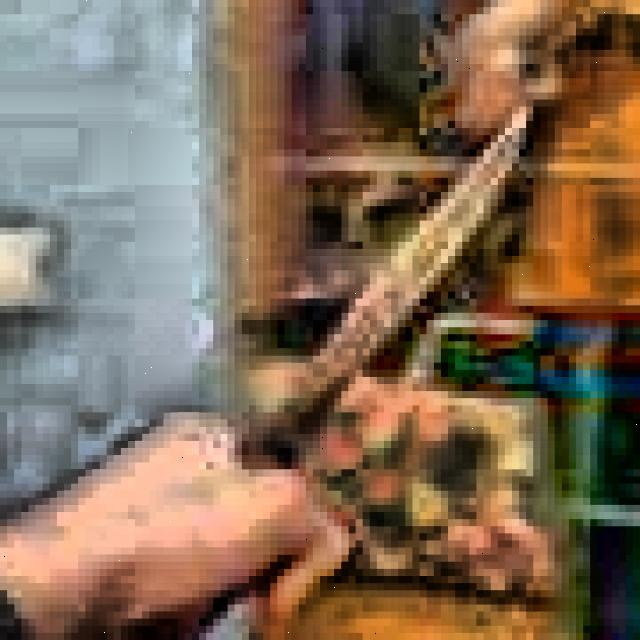knife: (92, 92, 526, 640)
